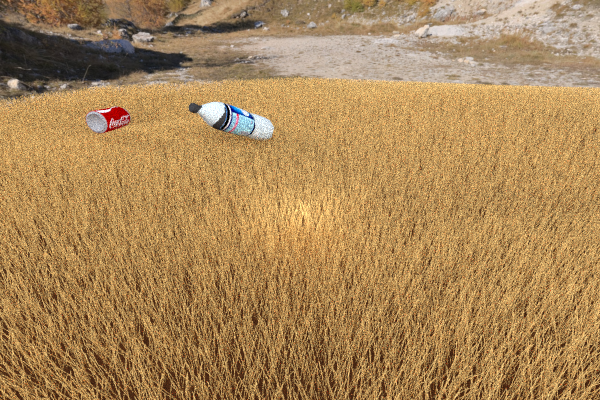Plastic Bottle: (188, 101, 274, 140), (85, 106, 130, 133)
